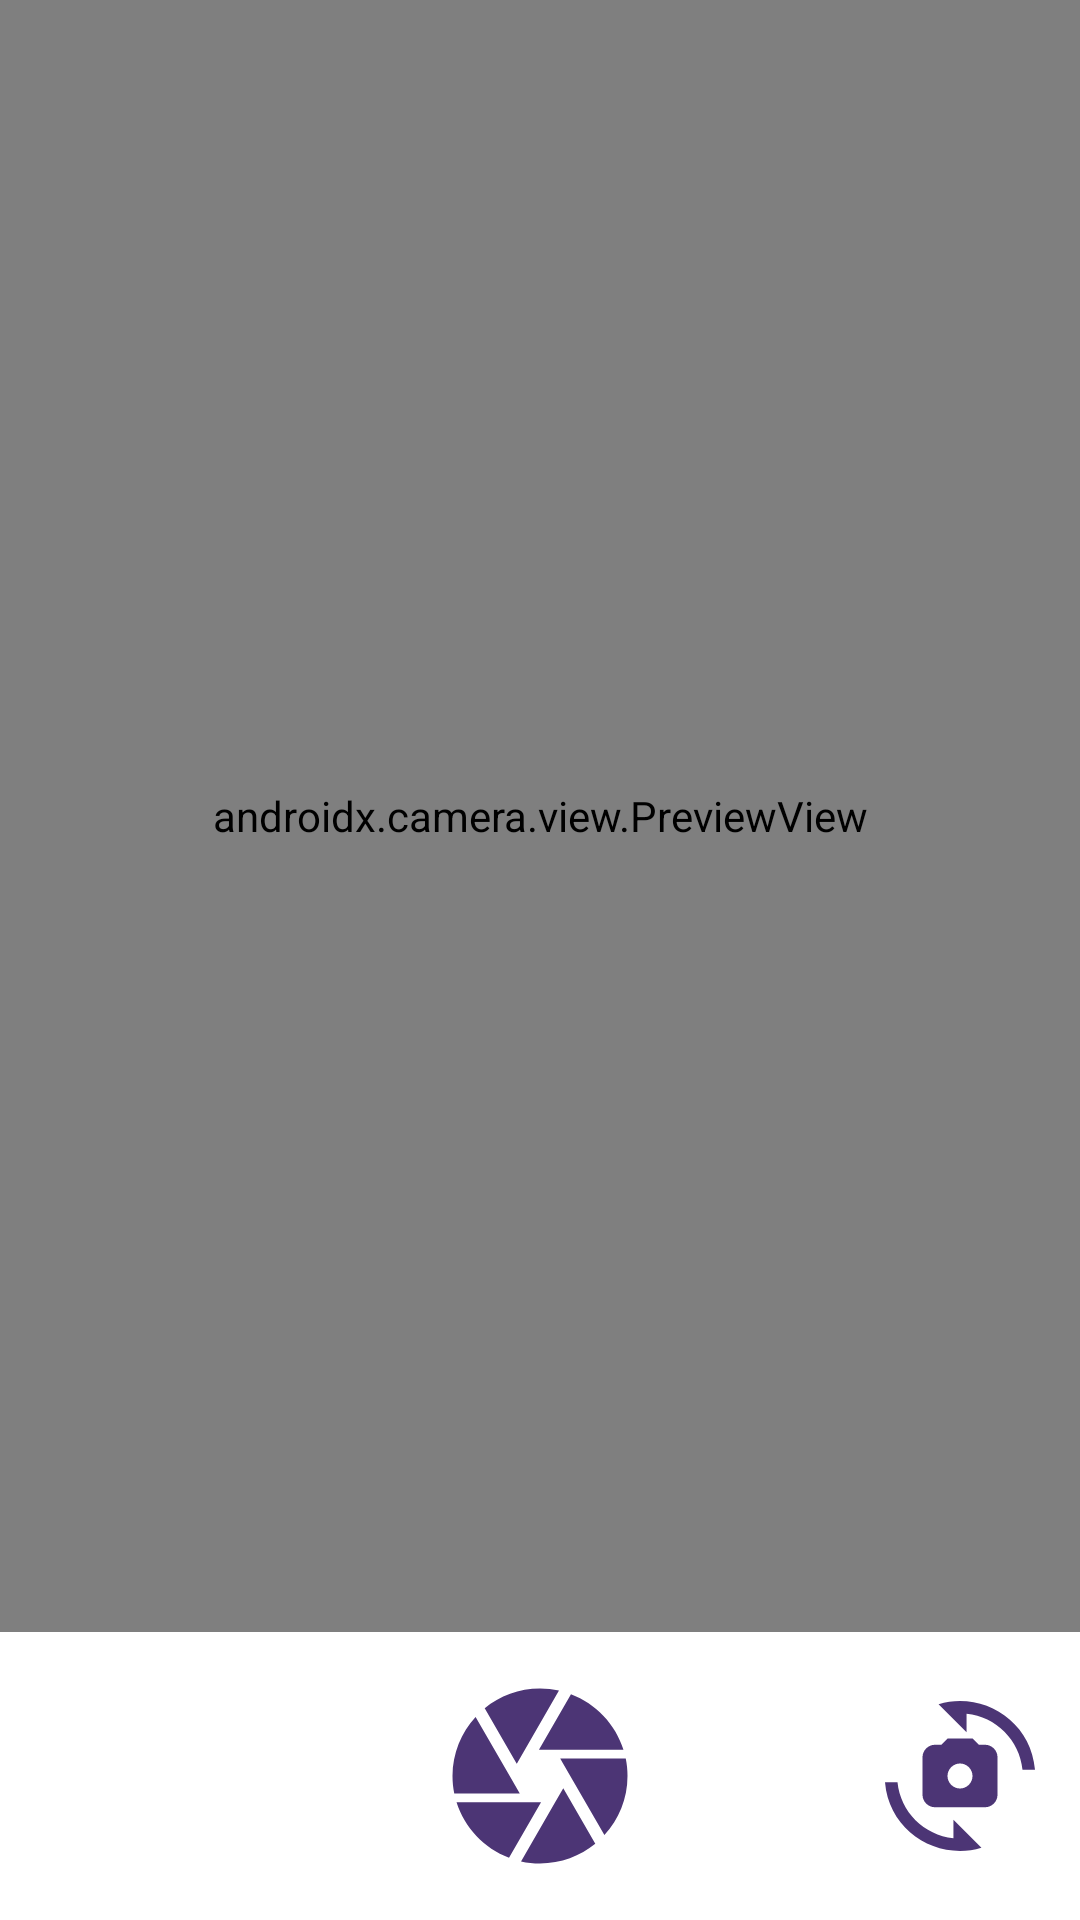

Locate icon controls on the screen. Image size 1080x1920, boxes as (x1, y1, x2, y2).
camera switch: (885, 1701, 1035, 1851)
